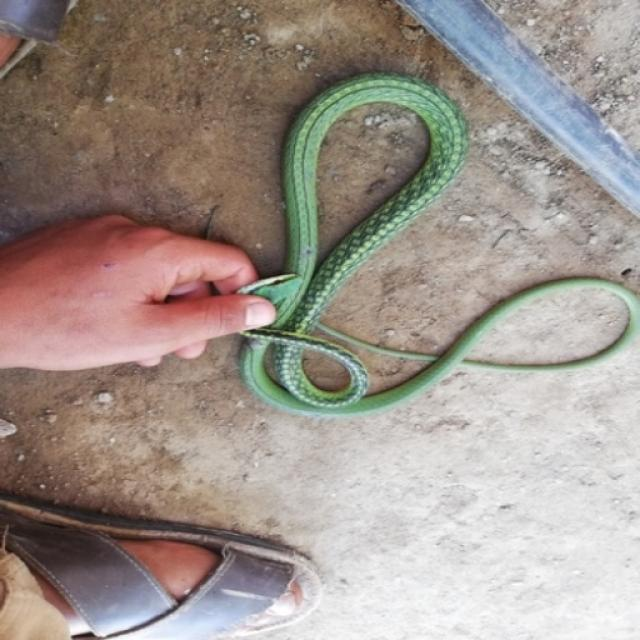snake: (231, 70, 640, 430)
